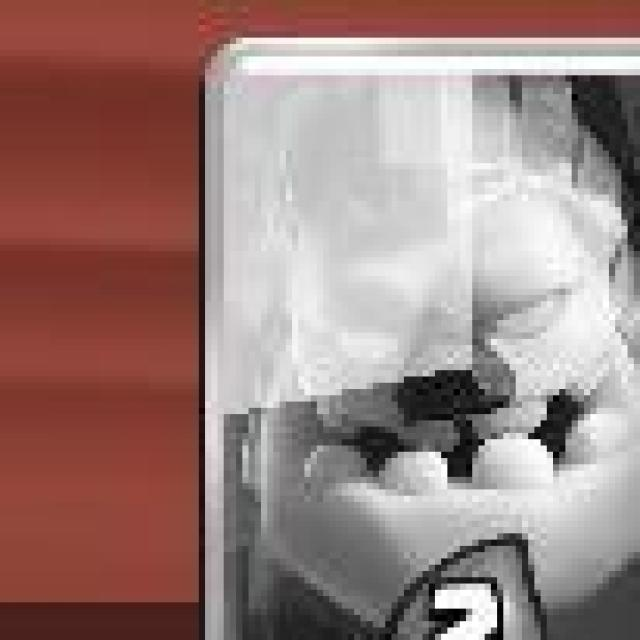Ice_Golem: (203, 34, 640, 640)
